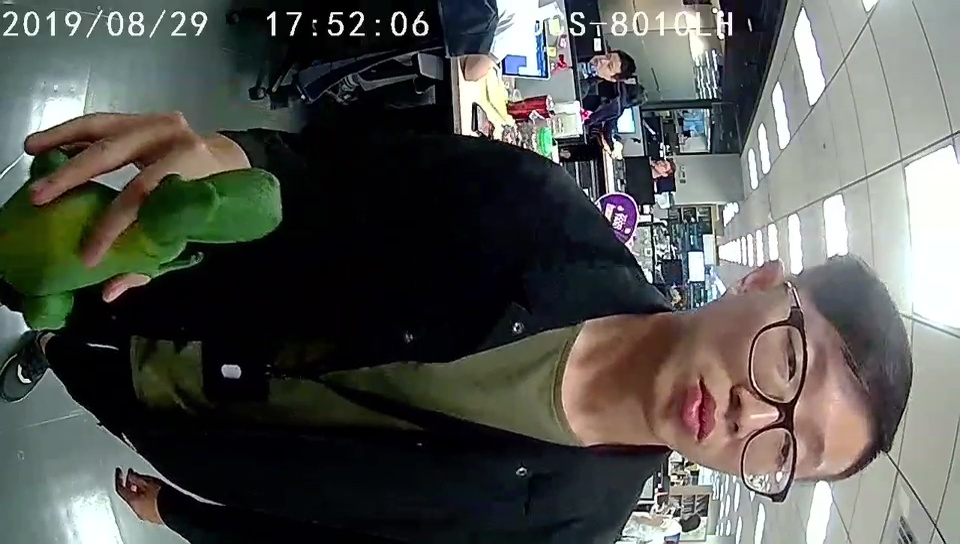rex: (2, 148, 284, 338)
